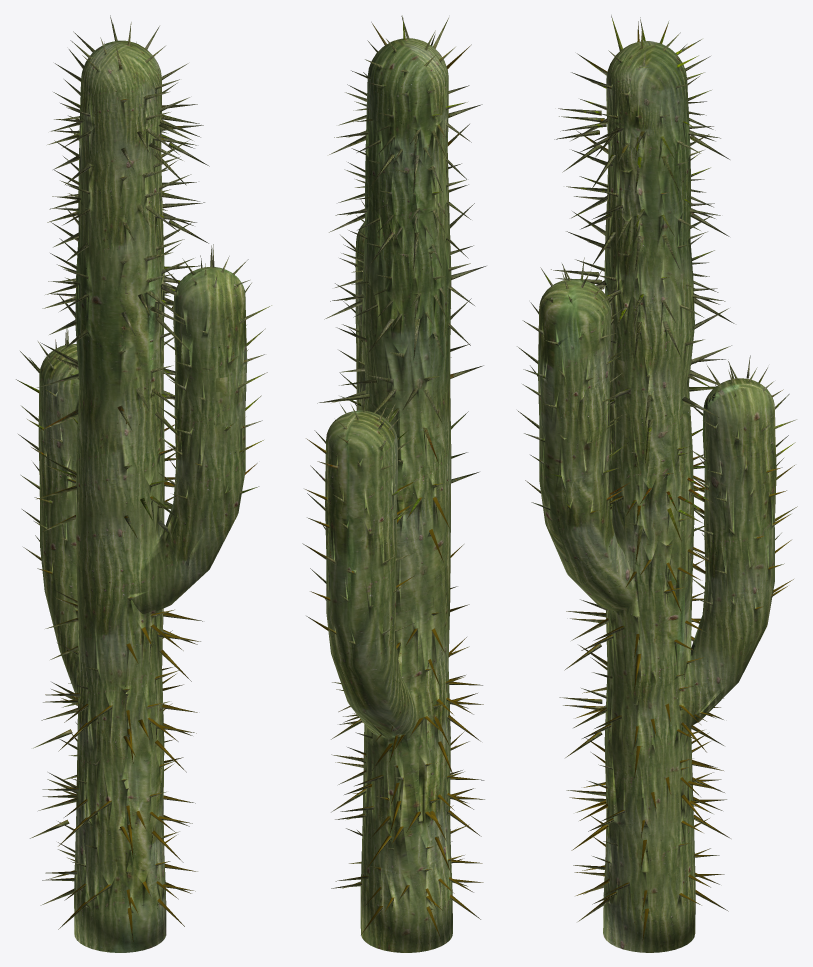
The picture shows the model from 3 angles, left to right: view 1: azimuth 30°, elevation 25°; view 2: azimuth 150°, elevation 25°; view 3: azimuth 270°, elevation 25°; orthographic projection.
Visible parts, largest first — view 1: Cactus 1; view 2: Cactus 1; view 3: Cactus 1.
Part boxes in pixels (box(x1,y1,x2,y2)): Cactus 1: box(16, 15, 271, 952); Cactus 1: box(302, 15, 485, 952); Cactus 1: box(517, 15, 797, 952).
Bounding box in the file's own units: 9.17 × 47.15 × 13.24.
Materials: 1 (1 with a texture image).
